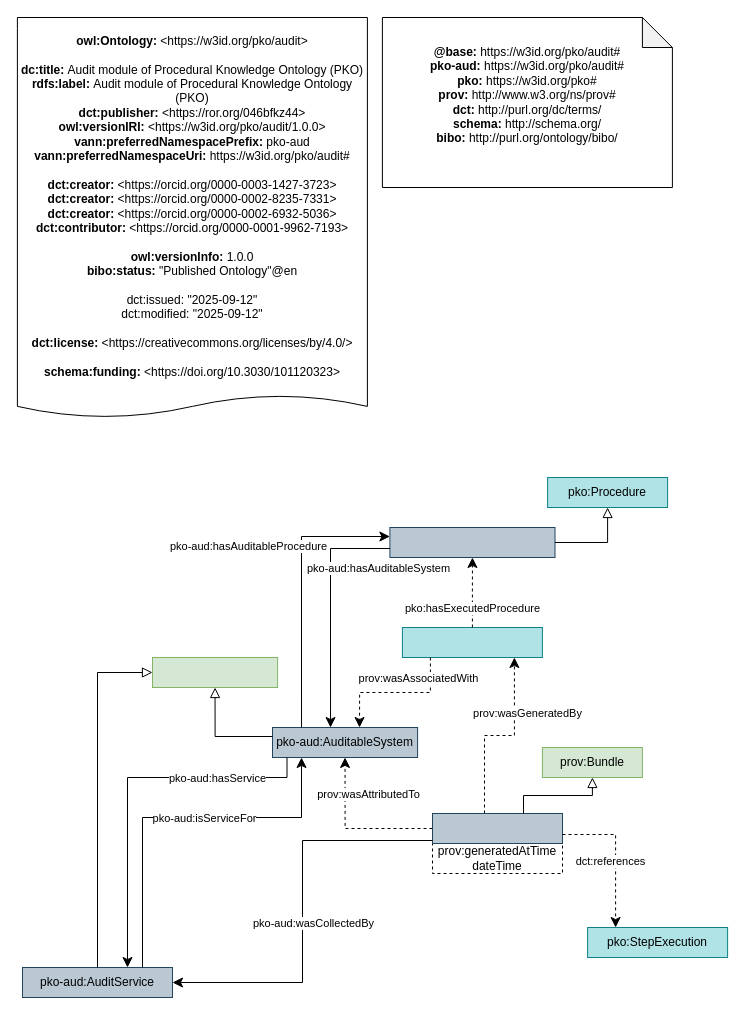
This 746x1015 diagram has some shape labels left out. Here are the shapes that lost their labels. From the top down, the centre of each, then its label:
(472,542): pko-aud:AuditableProcedure
(471,642): pko:ProcedureExecution
(215,672): prov:SoftwareAgent
(497,828): pko-aud:AuditBundle
